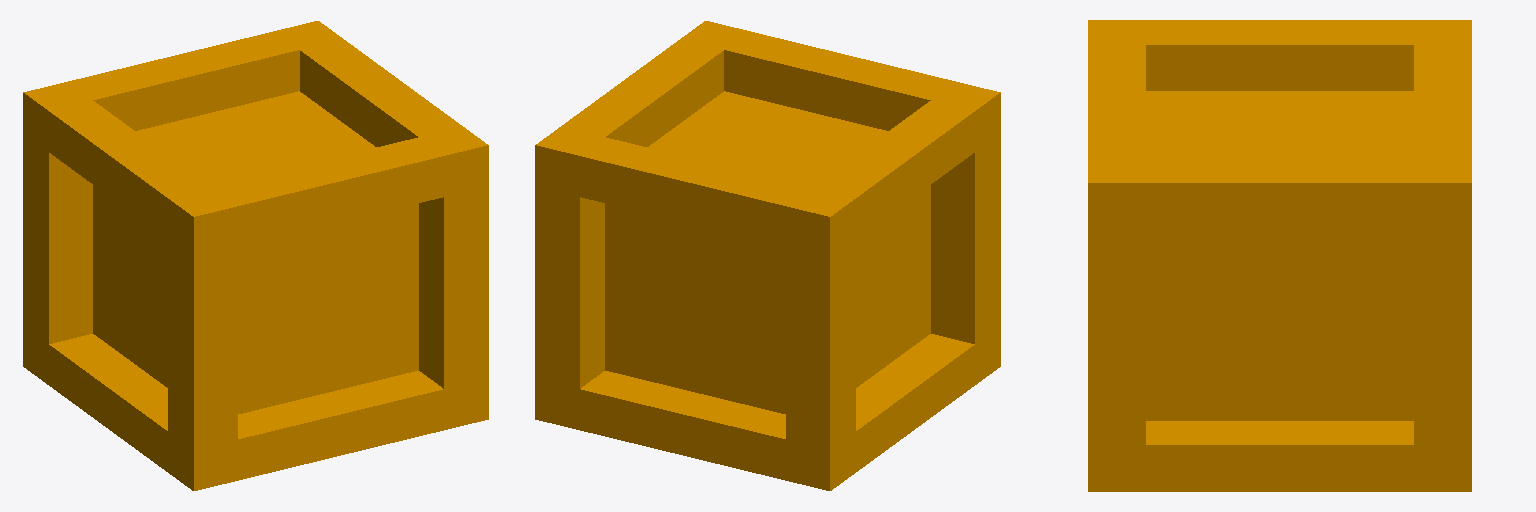
The robot description file, URDF, robot "indented_box":
<?xml version="1.0"?>
<robot name="indented_box">
  <link name="box">

    <!-- Visual -->
    <visual>
      <origin xyz="0 0 0" rpy="0 0 0"/>
      <geometry>
        <mesh filename="indented_box.obj" scale="0.4572 0.4572 0.4064"/>
      </geometry>
    </visual>

    <!-- Collision -->
    <collision>
      <origin xyz="0 0 0" rpy="0 0 0"/>
      <geometry>
        <mesh filename="indented_box.obj" scale="0.4572 0.4572 0.4064"/>
      </geometry>
    </collision>

    <!-- Inertial -->
    <inertial>
      <origin xyz="0 0 0" rpy="0 0 0"/>
      <mass value="10"/>
      <inertia ixx="0.5" iyy="0.5" izz="0.5" ixy="0" ixz="0" iyz="0"/>
    </inertial>

  </link>
</robot>

--- Render facts (derived) ---
Views: 3 orthographic renders of the robot side by side, from view 1: azimuth 30°, elevation 25°; view 2: azimuth 150°, elevation 25°; view 3: azimuth 270°, elevation 25°.
Model indented_box with 1 links and 0 joints (none), rooted at box, posed all joints at 0.
Links seen in each view (by area): view 1: box; view 2: box; view 3: box.
Link boxes in pixels (<box>): box: <box>23,21,488,490</box>; box: <box>535,21,1000,490</box>; box: <box>1088,20,1471,491</box>.
Bounding box of the posed robot: 0.4572 × 0.4572 × 0.4064 m (x, y, z).
1 mesh visuals loaded from 1 distinct referenced files (1 OBJ).
